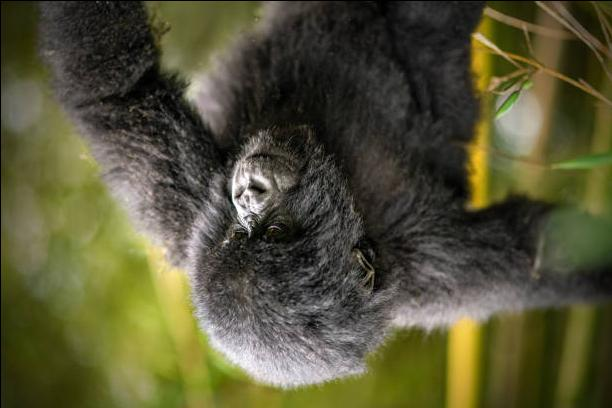goriile_montagne: (9, 0, 563, 386)
